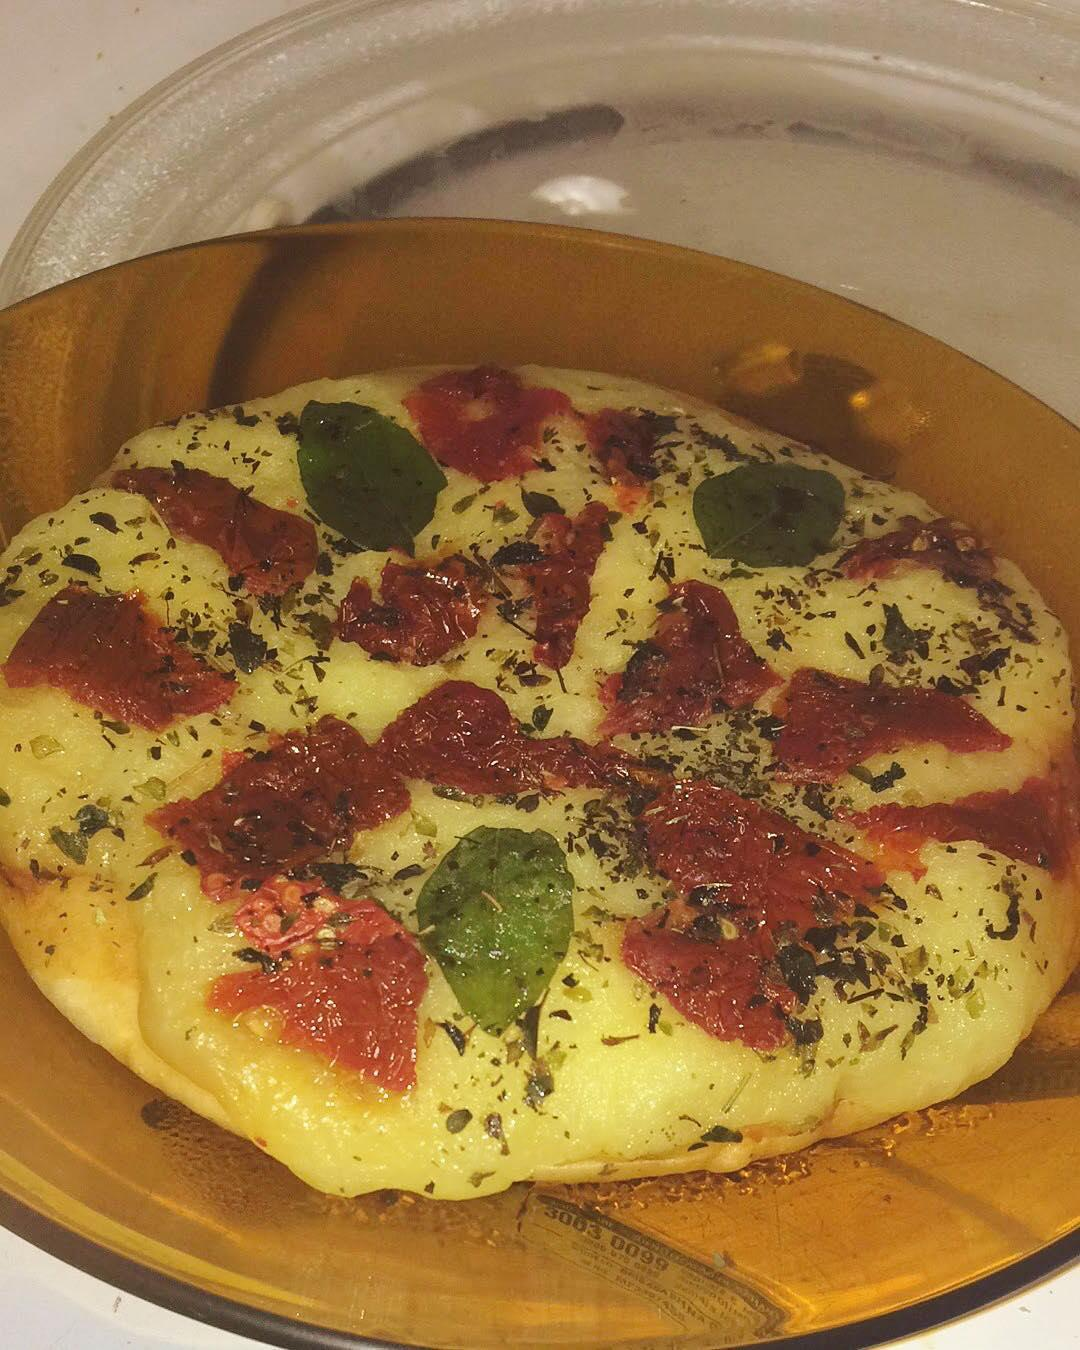Basil: (426, 829, 574, 1041), (298, 400, 441, 544), (691, 462, 849, 570)
Ham: (151, 719, 407, 905), (337, 500, 612, 670), (633, 777, 896, 920), (0, 579, 240, 733), (407, 680, 668, 798), (619, 920, 827, 1067), (109, 465, 327, 604), (768, 669, 1026, 778), (612, 576, 789, 731), (838, 776, 1080, 867), (408, 374, 576, 480)
Pizza: (0, 374, 1080, 1198)
